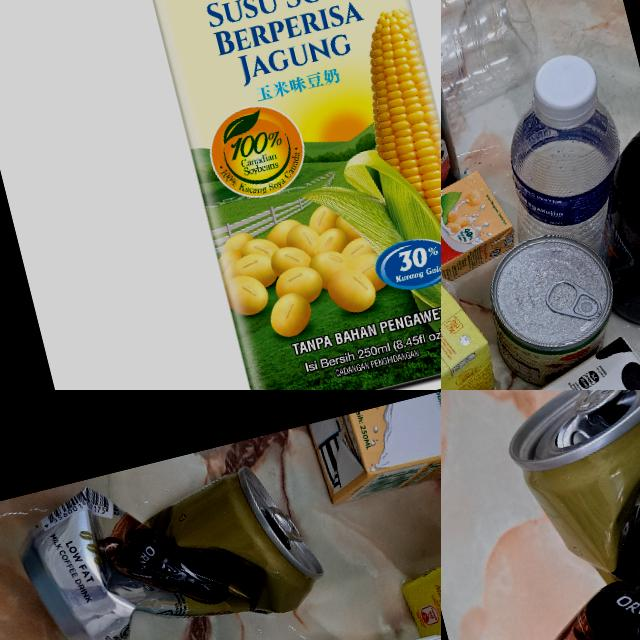aba de lata: (546, 277, 602, 332), (563, 390, 640, 417), (269, 500, 304, 548)
caixinha: (103, 0, 441, 390), (302, 390, 441, 510), (441, 166, 521, 311), (441, 263, 508, 390)
garrafa de vidro: (565, 111, 640, 344)
garrafa plástica: (441, 0, 559, 210)
lata: (4, 434, 330, 640), (441, 390, 640, 640), (481, 226, 628, 386)
tampa plástica: (529, 46, 605, 126)
